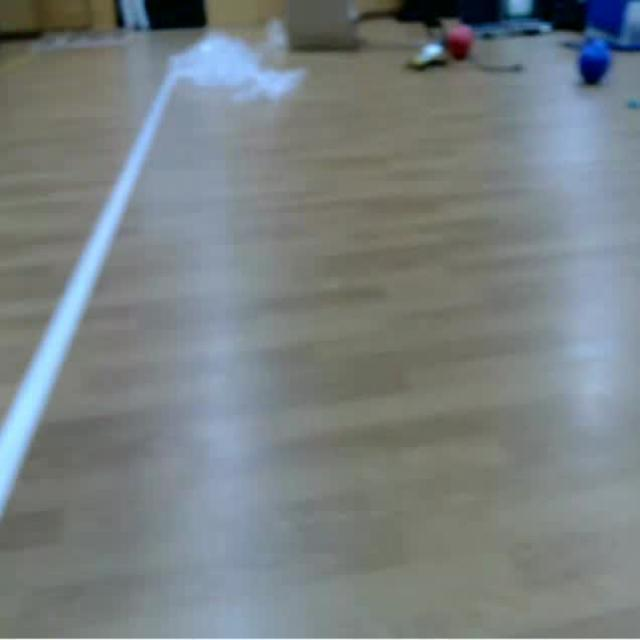blue_ball: (577, 39, 613, 88)
